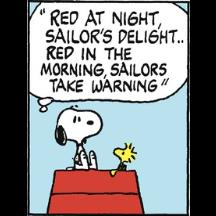snoopy: (54, 105, 102, 171)
